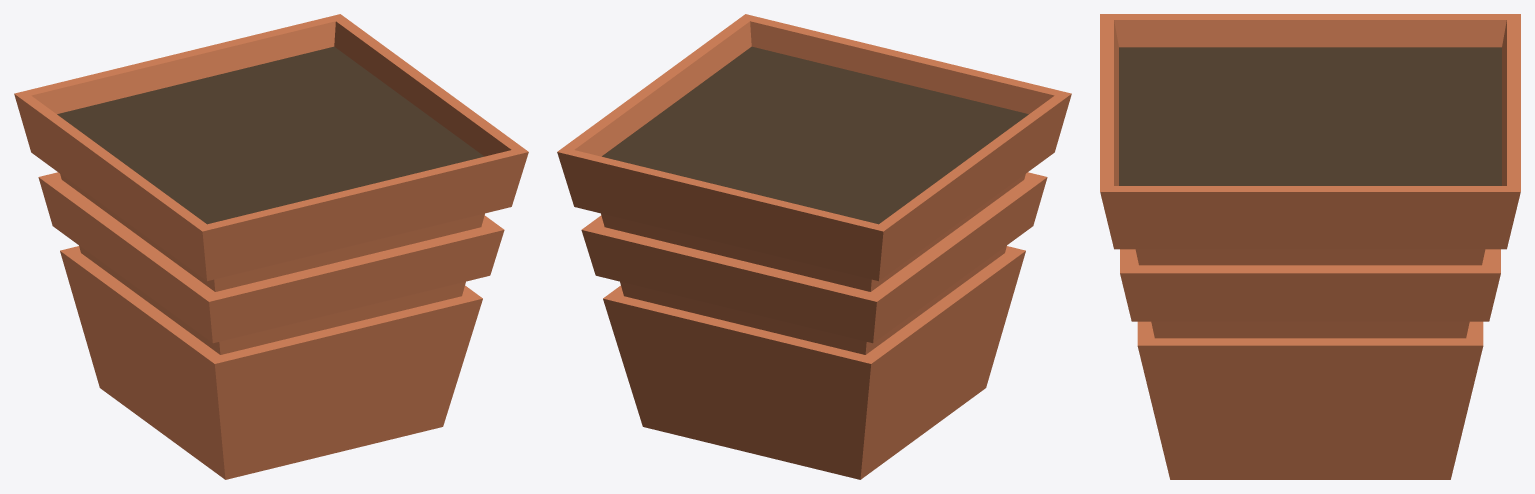
Rendered from pot_6.fbx.
3 renders of one model, left to right at view 1: azimuth 30°, elevation 25°; view 2: azimuth 150°, elevation 25°; view 3: azimuth 270°, elevation 25°, orthographic. The views are drawn at different scales.
Visible parts, largest first — view 1: pot; view 2: pot; view 3: pot.
Part boxes in pixels (x1,y1,x2,y2): pot: (14, 14, 528, 479); pot: (557, 14, 1071, 479); pot: (1100, 14, 1520, 479).
Size of the model in its own units: 150 by 125 by 150.
